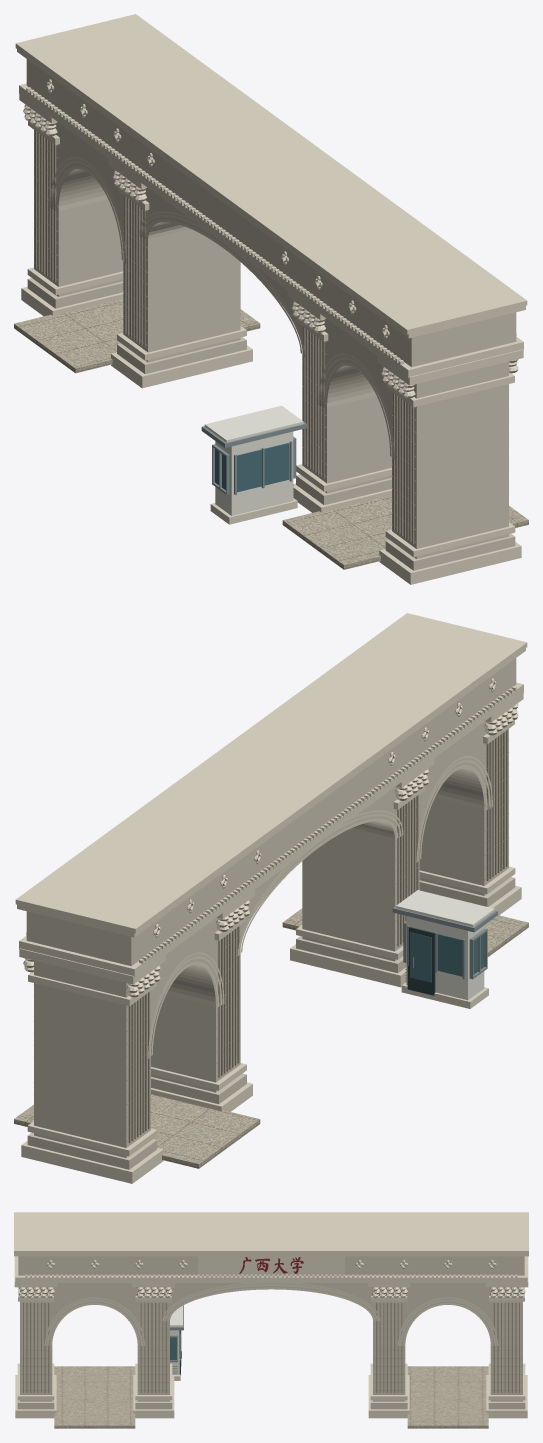
File: east-gate.glb
3 renders of one model, top to bottom at view 1: azimuth 30°, elevation 25°; view 2: azimuth 150°, elevation 25°; view 3: azimuth 270°, elevation 25°, orthographic. The views are drawn at different scales.
Visible parts, largest first — view 1: landmark-east-gate; view 2: landmark-east-gate; view 3: landmark-east-gate.
Part boxes in pixels (<box>): landmark-east-gate: <box>14,14,528,584</box>; landmark-east-gate: <box>14,613,528,1183</box>; landmark-east-gate: <box>14,1212,528,1428</box>.
Bounding box in the file's own units: 7.42 × 7.96 × 22.
9 materials, 1 textured.
